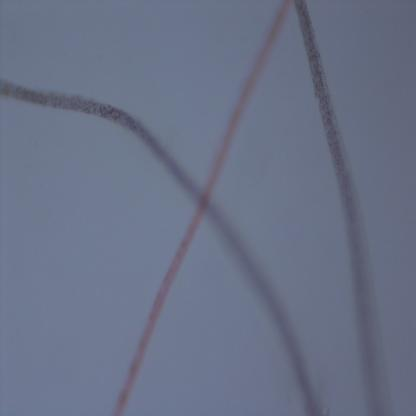Microfibre: (0, 80, 324, 414), (112, 0, 290, 414), (296, 1, 396, 415)
